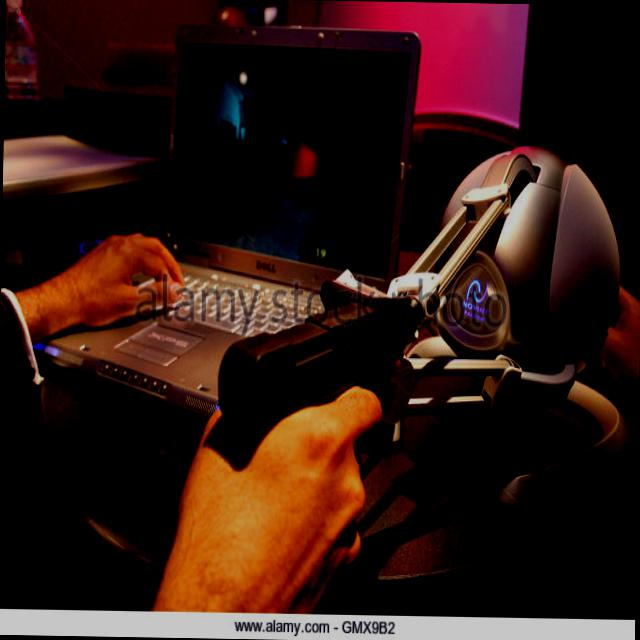handgun: (213, 258, 408, 490)
